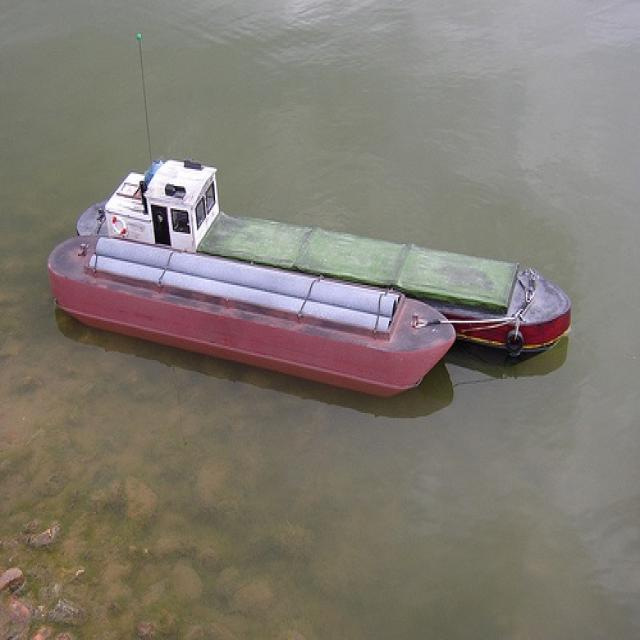boat: (78, 158, 572, 356), (50, 235, 458, 397)
